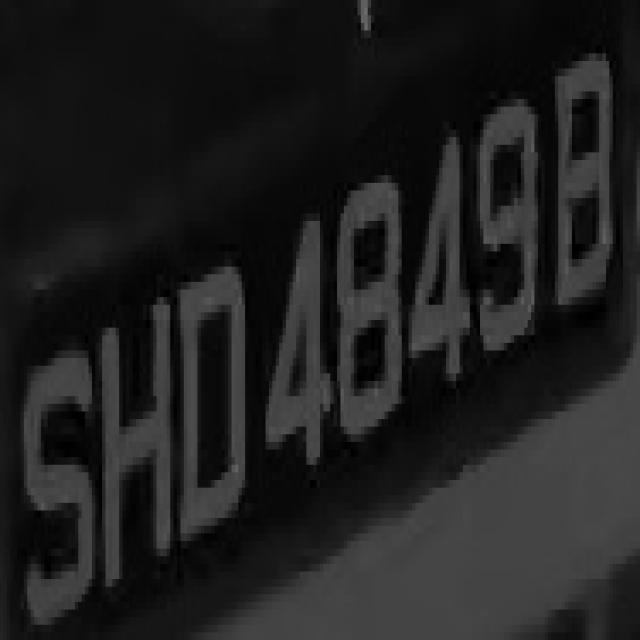4: (255, 183, 334, 541), (398, 122, 480, 396)
8: (327, 168, 412, 450)
9: (466, 61, 548, 381)
B: (548, 46, 620, 343)
D: (174, 236, 252, 556)
H: (95, 267, 177, 594)
S: (14, 328, 102, 632)
